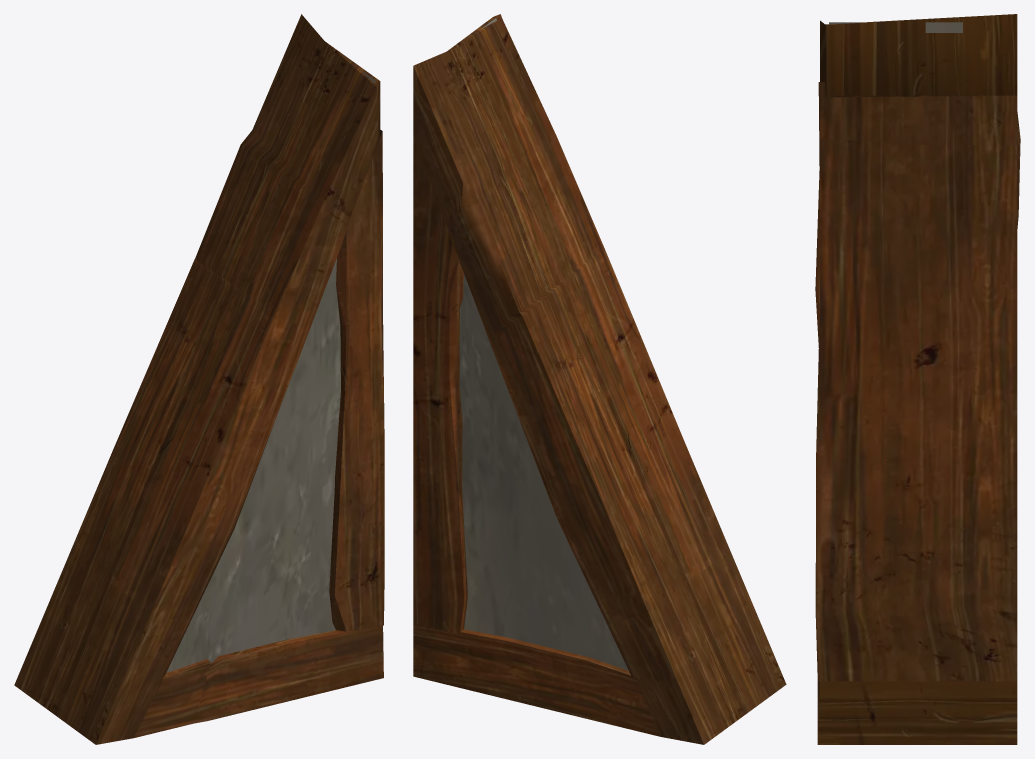
The picture shows the model from 3 angles, left to right: view 1: azimuth 30°, elevation 25°; view 2: azimuth 150°, elevation 25°; view 3: azimuth 270°, elevation 25°; orthographic projection. The views are drawn at different scales.
Parts seen in each view (by area): view 1: SM_BB_T2_Wall_Slanted_Med_Steep_LOD0; view 2: SM_BB_T2_Wall_Slanted_Med_Steep_LOD0; view 3: SM_BB_T2_Wall_Slanted_Med_Steep_LOD0.
Part boxes in pixels (x1,y1,x2,y2): SM_BB_T2_Wall_Slanted_Med_Steep_LOD0: [14, 14, 384, 744]; SM_BB_T2_Wall_Slanted_Med_Steep_LOD0: [413, 14, 786, 744]; SM_BB_T2_Wall_Slanted_Med_Steep_LOD0: [815, 14, 1020, 744].
Bounding box in the file's own units: 0.7626 × 1.53 × 0.3896.
2 materials, 2 textured.
